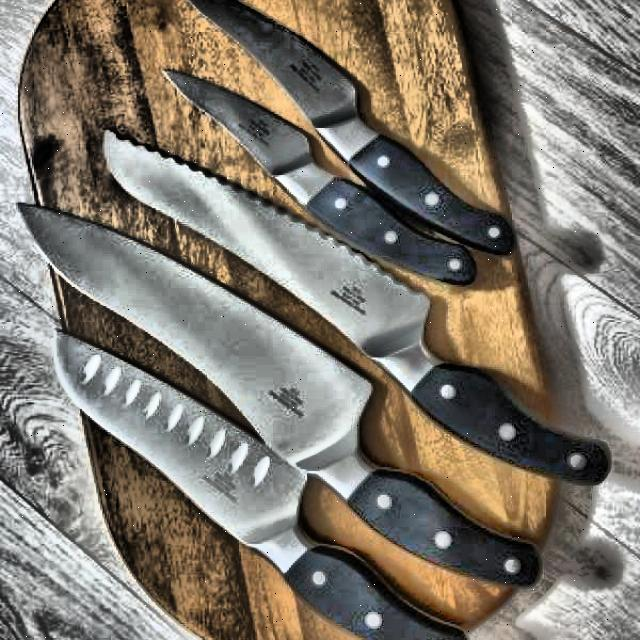knife: (16, 197, 547, 599), (95, 122, 612, 483), (47, 320, 470, 640), (172, 0, 534, 266), (160, 65, 492, 293)
